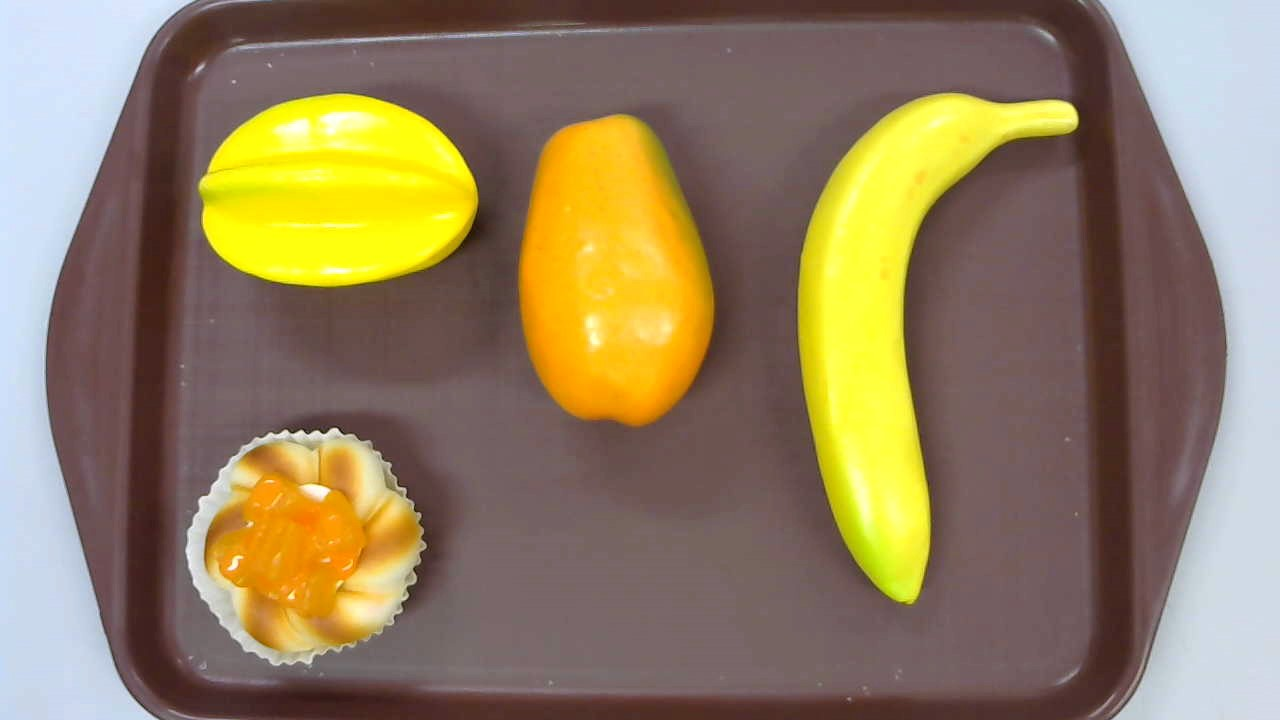banana: (797, 91, 1078, 603)
mango tart: (186, 428, 429, 669)
papya: (519, 114, 713, 427)
star fruit: (198, 92, 478, 289)
